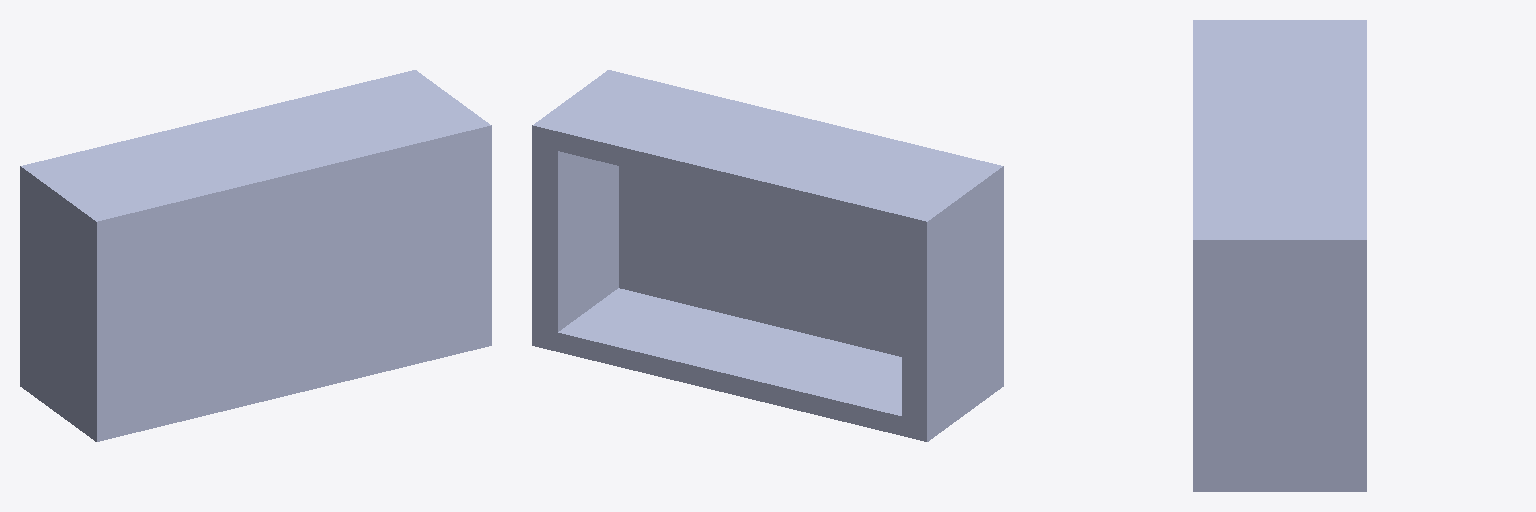
URDF robot description (basket_assembly):
<?xml version="1.0" encoding="utf-8"?>
<!-- This URDF was automatically created by SolidWorks to URDF Exporter! Originally created by [author] ([email redacted]) 
     Commit Version: 1.6.0-4-g7f85cfe  Build Version: 1.6.7995.38578
     For more information, please see http://wiki.ros.org/sw_urdf_exporter -->
<robot
  name="basket_assembly">
  <link
    name="basket_base">
    <inertial>
      <origin
        xyz="-1.1365E-16 0 0.080634"
        rpy="0 0 0" />
      <mass
        value="4.1855" />
      <inertia
        ixx="0.026882"
        ixy="-5.6424E-34"
        ixz="-1.1381E-17"
        iyy="0.073211"
        iyz="1.4755E-18"
        izz="0.087657" />
    </inertial>
    <visual>
      <origin
        xyz="0 0 0"
        rpy="0 0 0" />
      <geometry>
        <mesh
          filename="package://basket_assembly/meshes/base_link.STL" />
      </geometry>
      <material
        name="">
        <color
          rgba="0.79216 0.81961 0.93333 1" />
      </material>
    </visual>
    <collision>
      <origin
        xyz="0 0 0"
        rpy="0 0 0" />
      <geometry>
        <mesh
          filename="package://basket_assembly/meshes/base_link.STL" />
      </geometry>
    </collision>
  </link>
</robot>

--- What the picture shows (computed from the rendered views, not written in the file) ---
Views: 3 orthographic renders of the robot side by side, from view 1: azimuth 30°, elevation 25°; view 2: azimuth 150°, elevation 25°; view 3: azimuth 270°, elevation 25°.
Robot: basket_assembly — 1 links, 0 joints (none); root link basket_base; default pose: all joints at 0.
Visible links, largest first — view 1: basket_base; view 2: basket_base; view 3: basket_base.
Boxes of the visible links, box(x1,y1,x2,y2) form: basket_base: box(20, 70, 491, 441); basket_base: box(532, 70, 1003, 441); basket_base: box(1193, 20, 1366, 491).
Bounding box of the posed robot: 0.381 × 0.127 × 0.2032 m (x, y, z).
Meshes: 1 distinct files referenced, 1 mesh visuals loaded (1 binary STL).